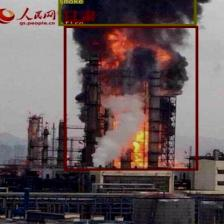fire: (64, 26, 198, 170)
smoke: (58, 0, 195, 25)
